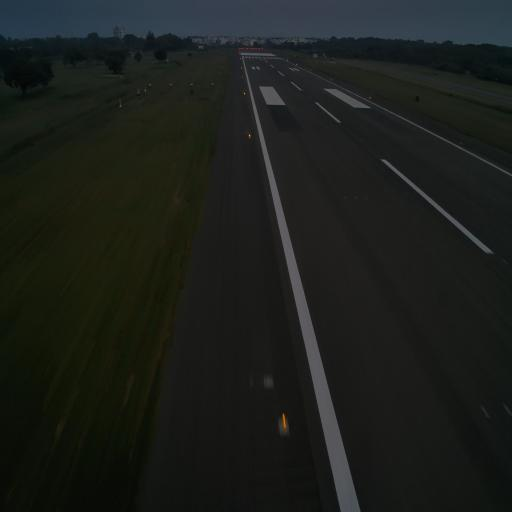off: (479, 402, 491, 422), (502, 403, 512, 418), (500, 254, 508, 266), (353, 193, 359, 202), (364, 193, 370, 202), (502, 195, 507, 204), (483, 195, 488, 203), (493, 196, 498, 204), (342, 195, 347, 202), (361, 138, 364, 142)
on: (279, 413, 291, 435), (247, 132, 252, 140)
